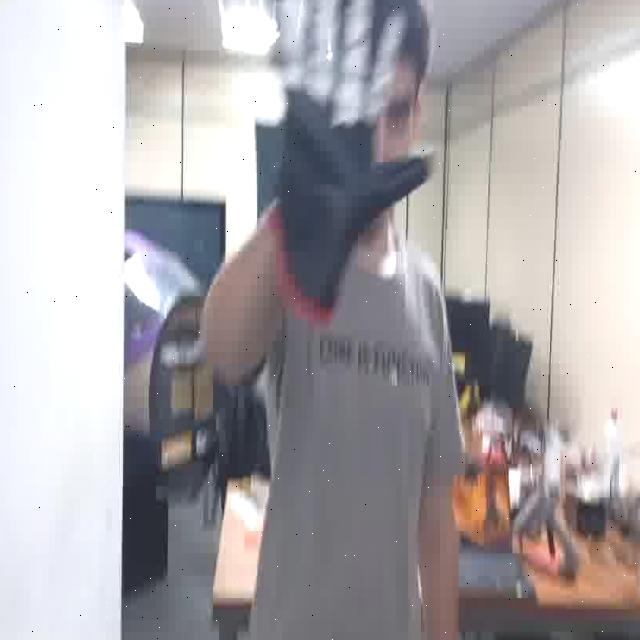Gloves: (272, 0, 427, 328)
